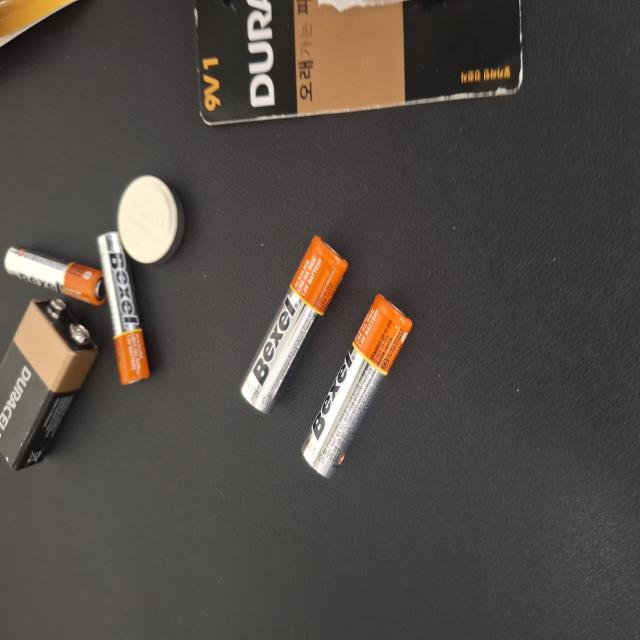9V: (127, 0, 255, 130)
AA: (122, 404, 259, 550), (170, 321, 302, 462)
AAA: (191, 130, 306, 200), (251, 5, 295, 142)
COIN: (282, 156, 348, 245)
